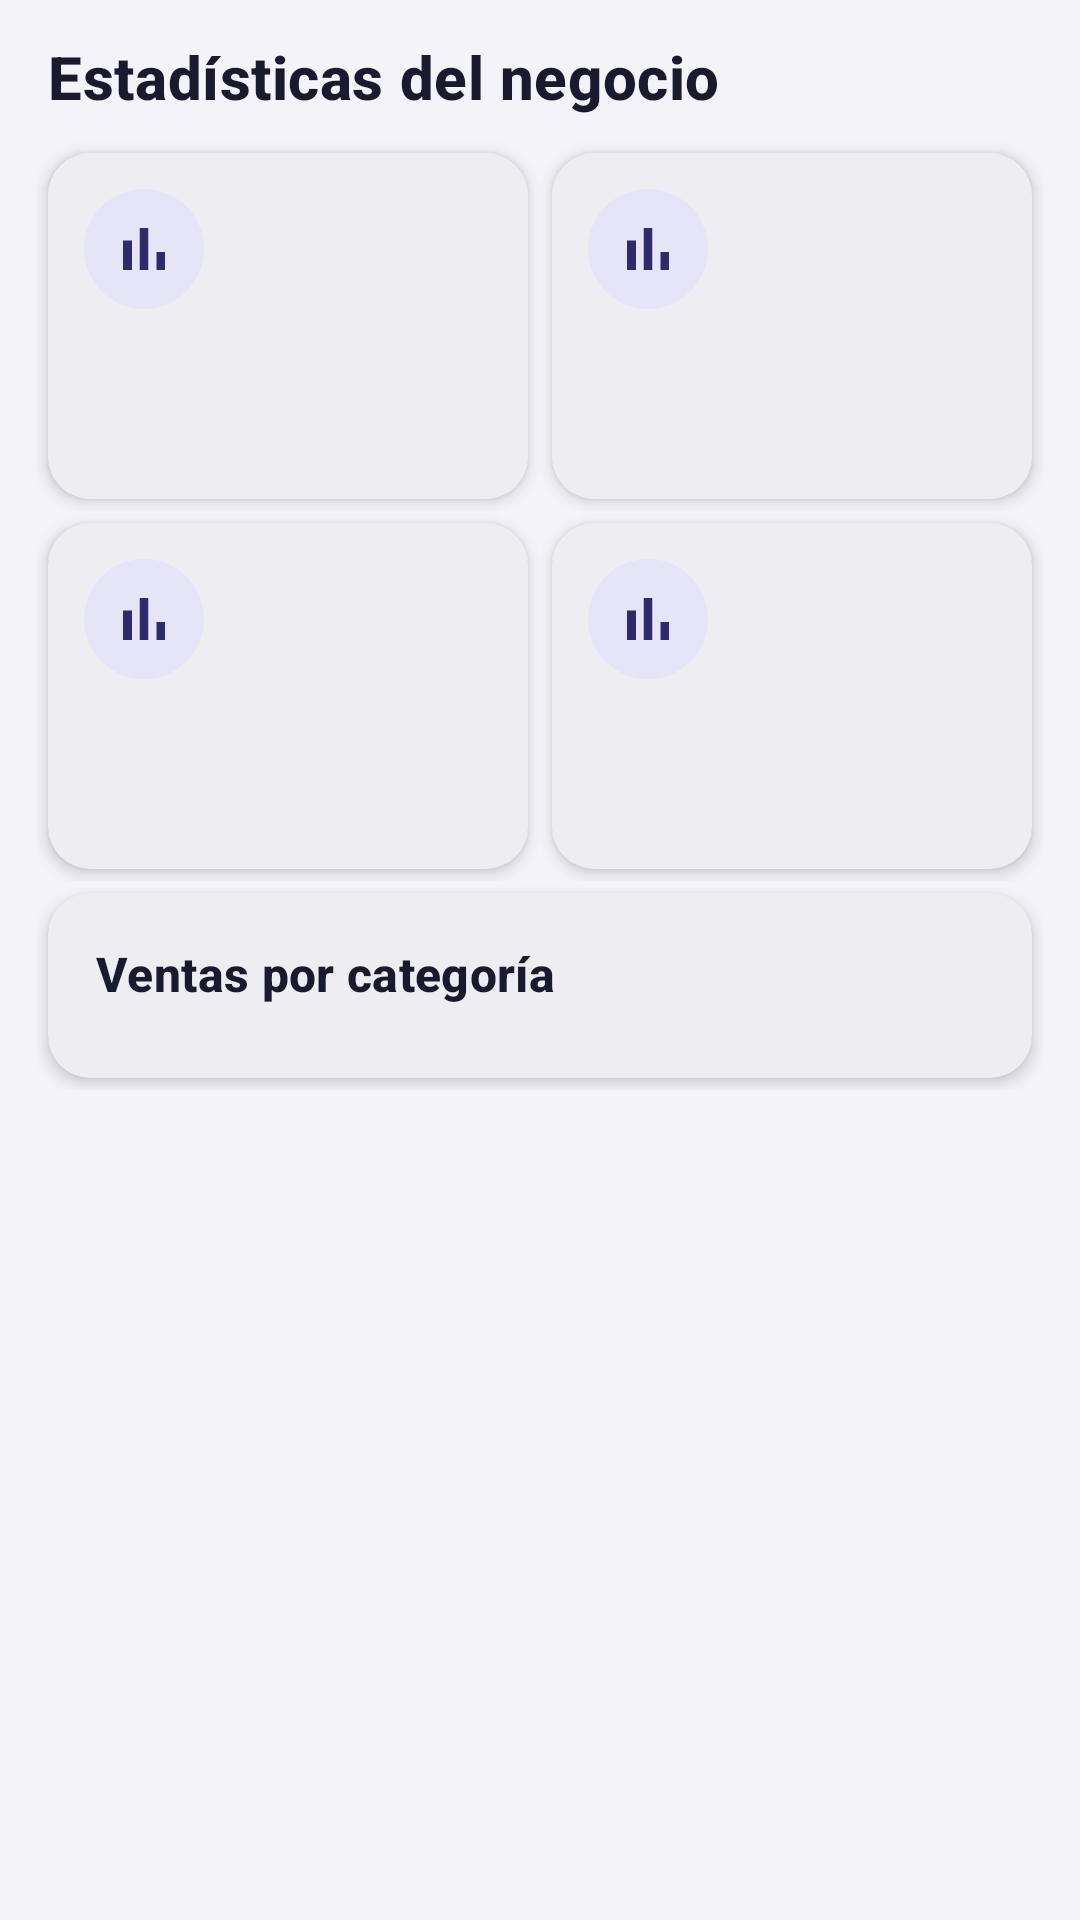

Icons on this 1080w x 1920h Android screen, each with its box as BBox(x1, y1, x2, y2):
chart: BBox(84, 189, 204, 309), BBox(588, 189, 708, 309), BBox(84, 559, 204, 679), BBox(588, 559, 708, 679)
